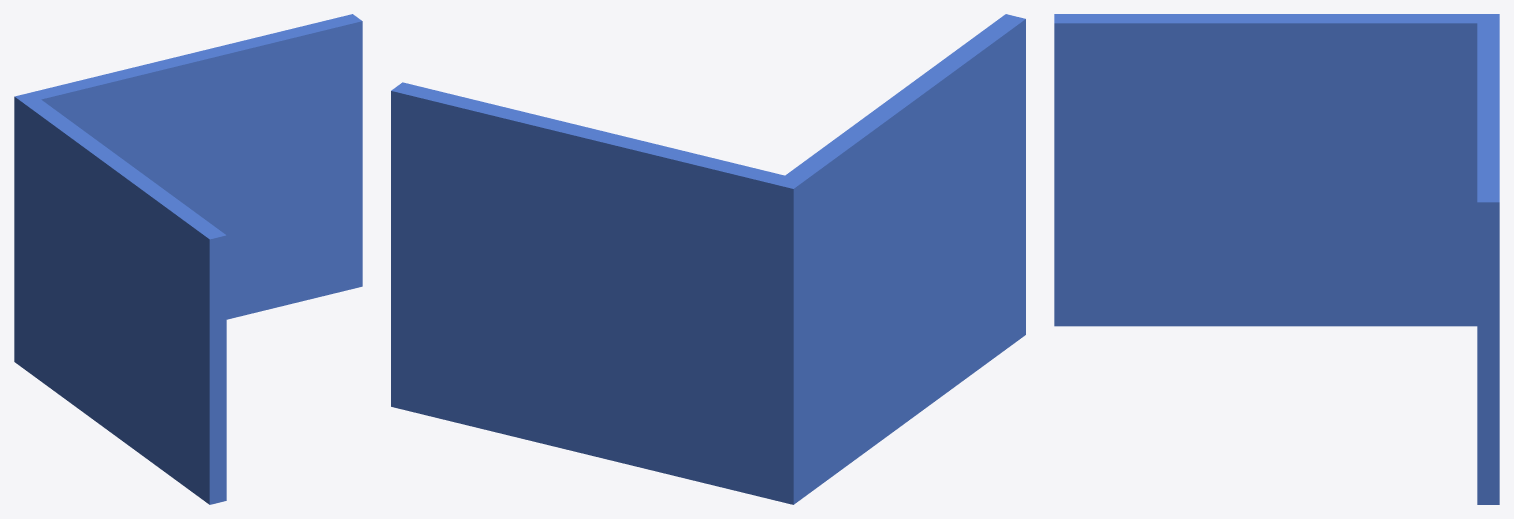
The model's file is WallBand_Corner_Square_Outer_Collision.fbx.
The picture shows the model from 3 angles, left to right: view 1: azimuth 30°, elevation 25°; view 2: azimuth 150°, elevation 25°; view 3: azimuth 270°, elevation 25°; orthographic projection. The views are drawn at different scales.
Parts seen in each view (by area): view 1: WallBand_Corner_Square_Outer_Collision; view 2: WallBand_Corner_Square_Outer_Collision; view 3: WallBand_Corner_Square_Outer_Collision.
Boxes of the visible parts, left/top/right/bottom form: WallBand_Corner_Square_Outer_Collision: left=14, top=14, right=362, bottom=504; WallBand_Corner_Square_Outer_Collision: left=391, top=14, right=1025, bottom=504; WallBand_Corner_Square_Outer_Collision: left=1054, top=14, right=1499, bottom=504.
Size of the model in its own units: 400 by 300 by 400.
